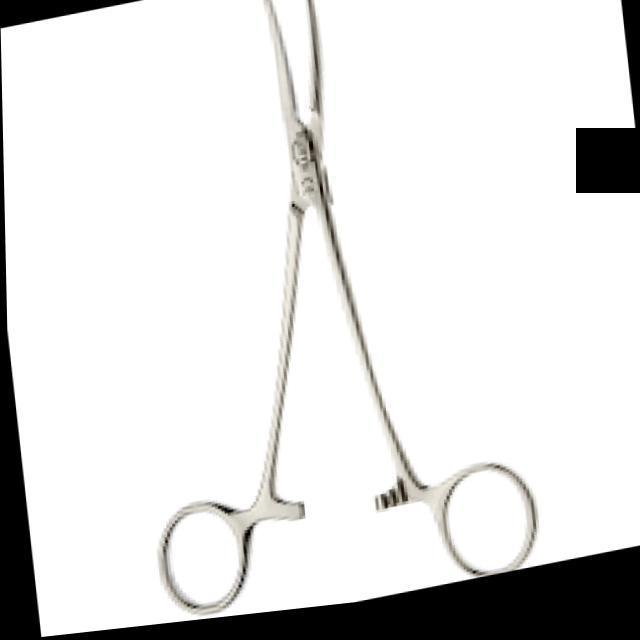Artery Forceps: (91, 0, 549, 632)
